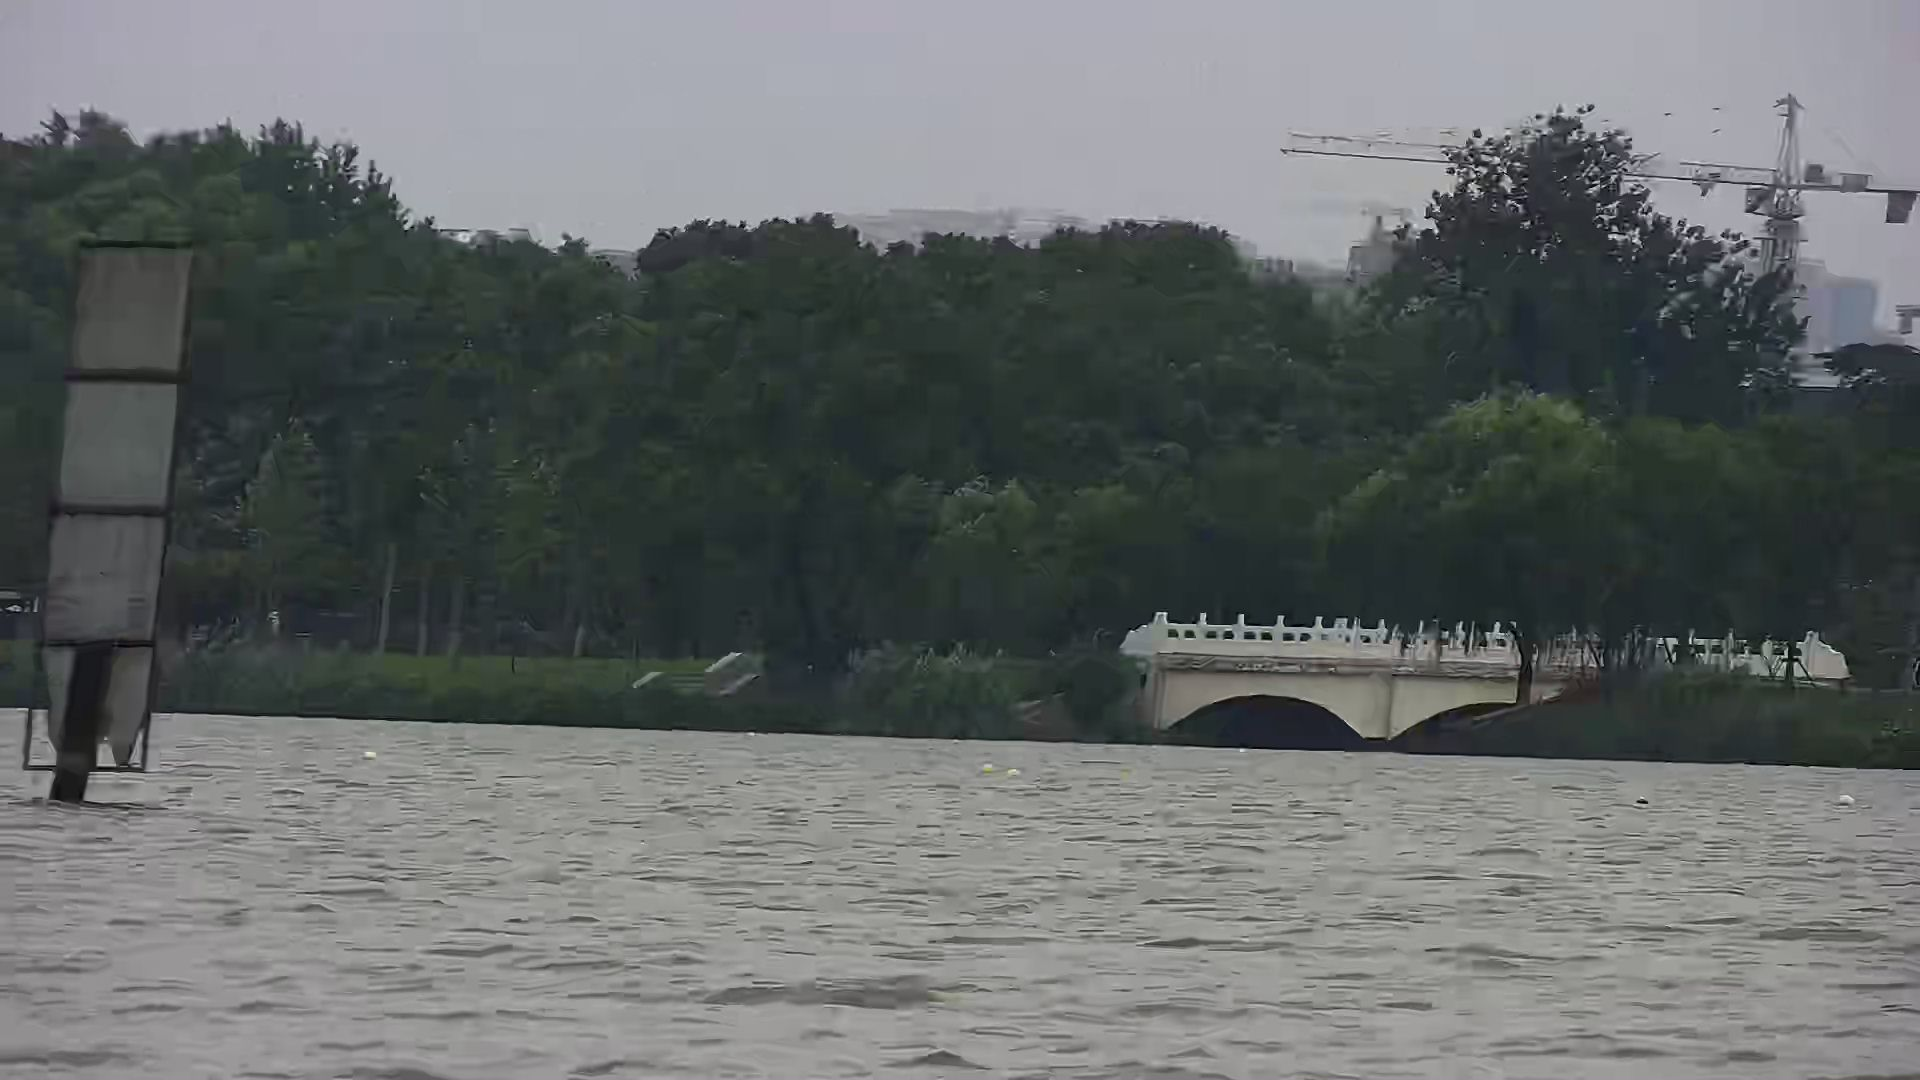bridge: (1116, 597, 1536, 764)
mast: (11, 227, 211, 799)
